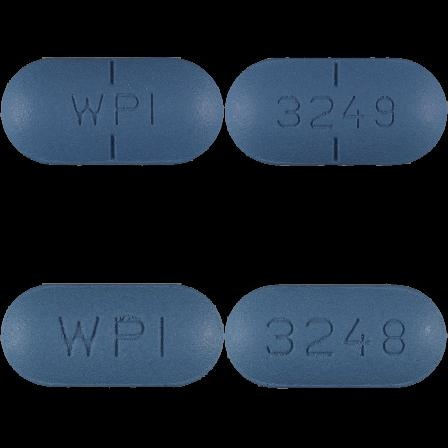54868-6089: (0, 0, 224, 224)
